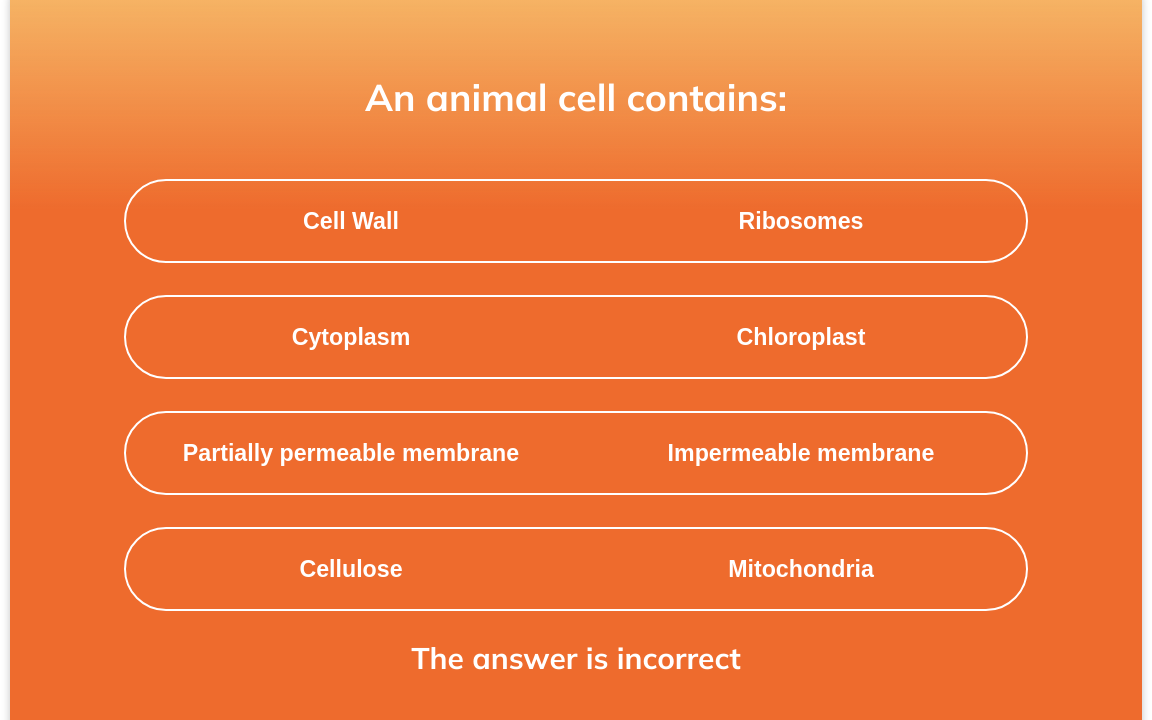
Test case: quiz component › When all answers are correct, buttons lock, next button shows and answer statement updates
Click the button "Ribosomes" at (801, 222), box [576,181,1026,262]
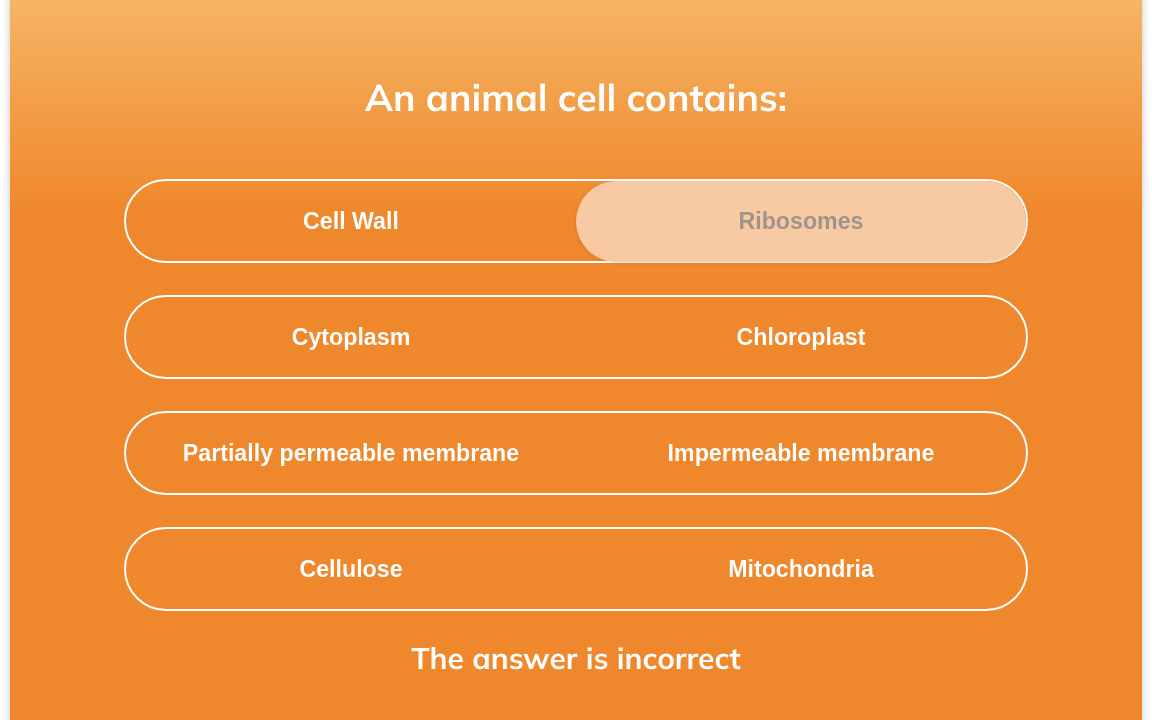
Click the button "Cytoplasm" at (351, 338), box [126,297,576,378]
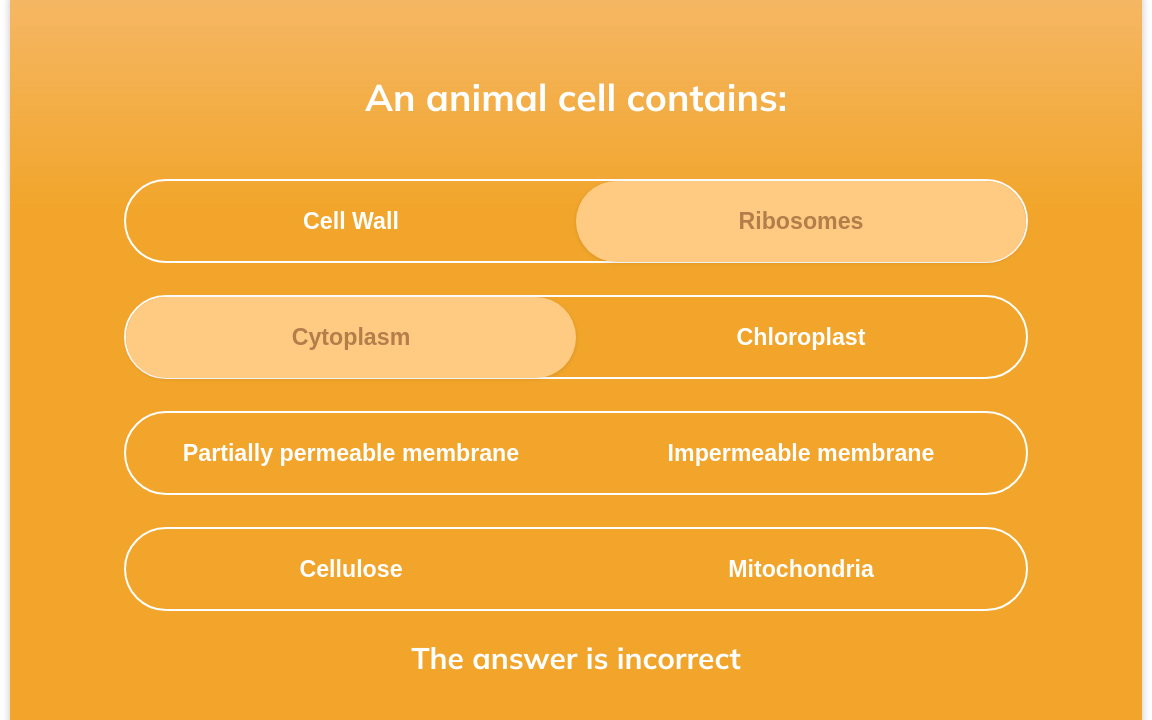
Click the button "Partially permeable membrane" at (351, 454), box [126,413,576,494]
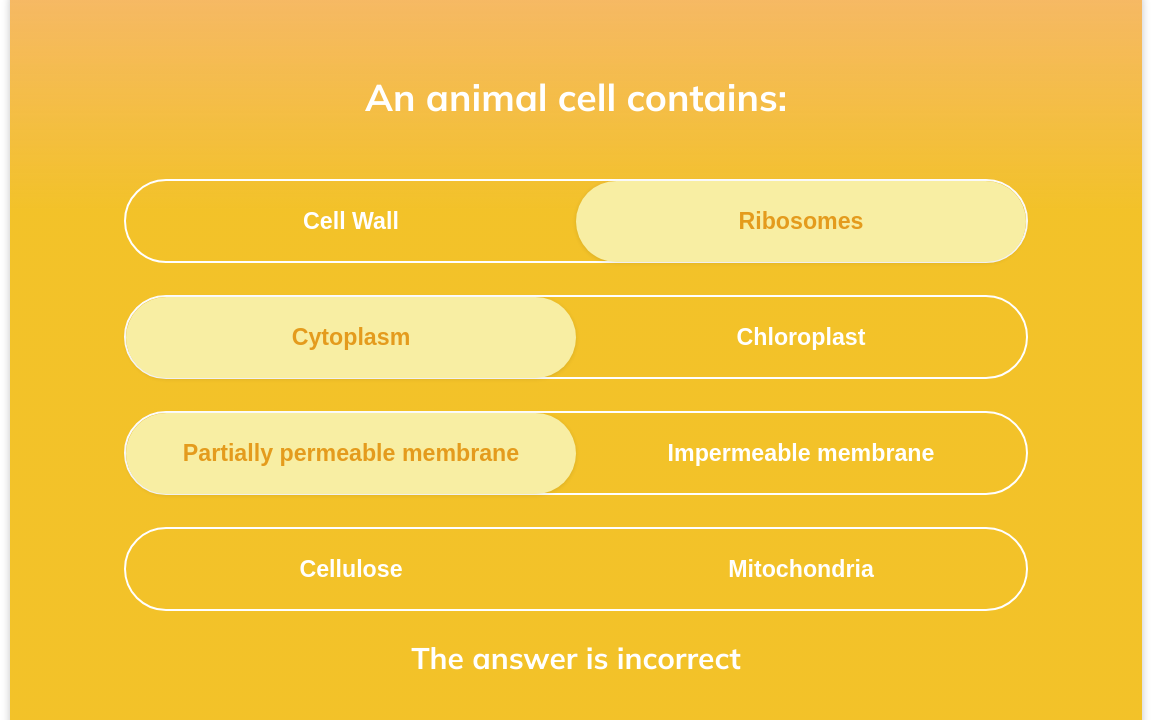
Click the button "Mitochondria" at (801, 570), box [576,529,1026,610]
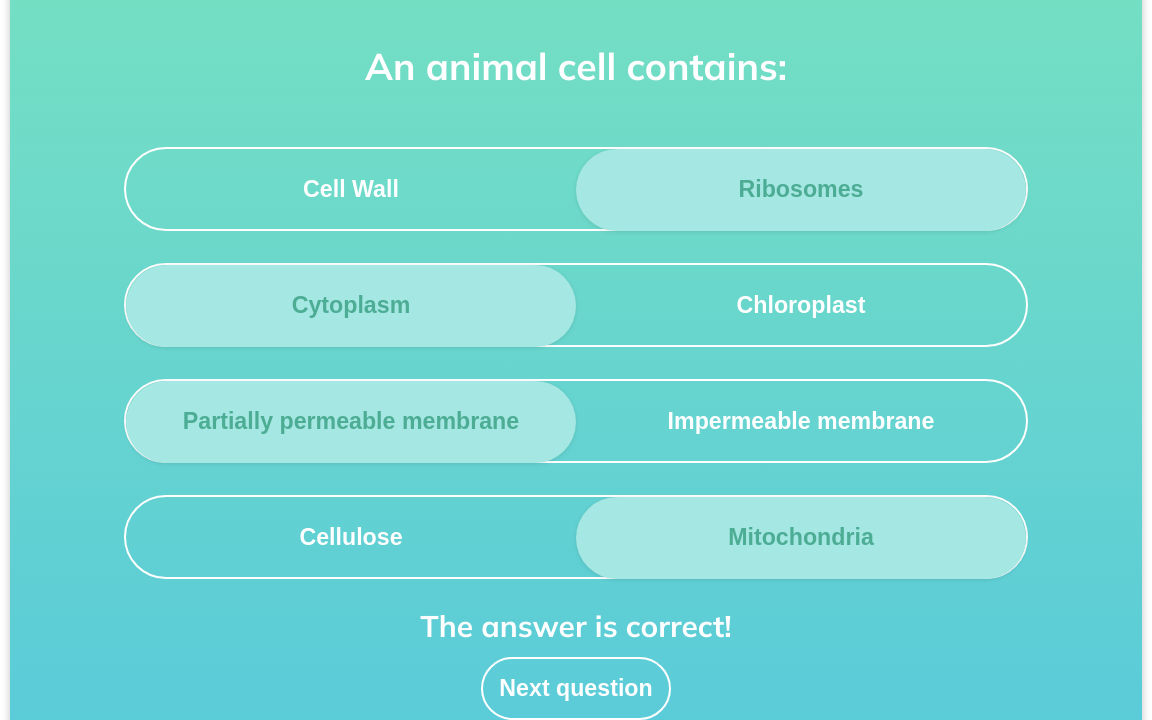
Expected: the button with class "next-btn" is shown, [481,657,670,719]
Expected: the text with class "answer-statement" reads "The answer is correct!", [0,625,1151,627]
